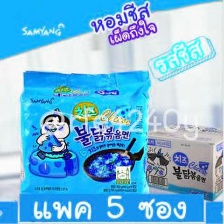snack: (15, 62, 154, 194)
